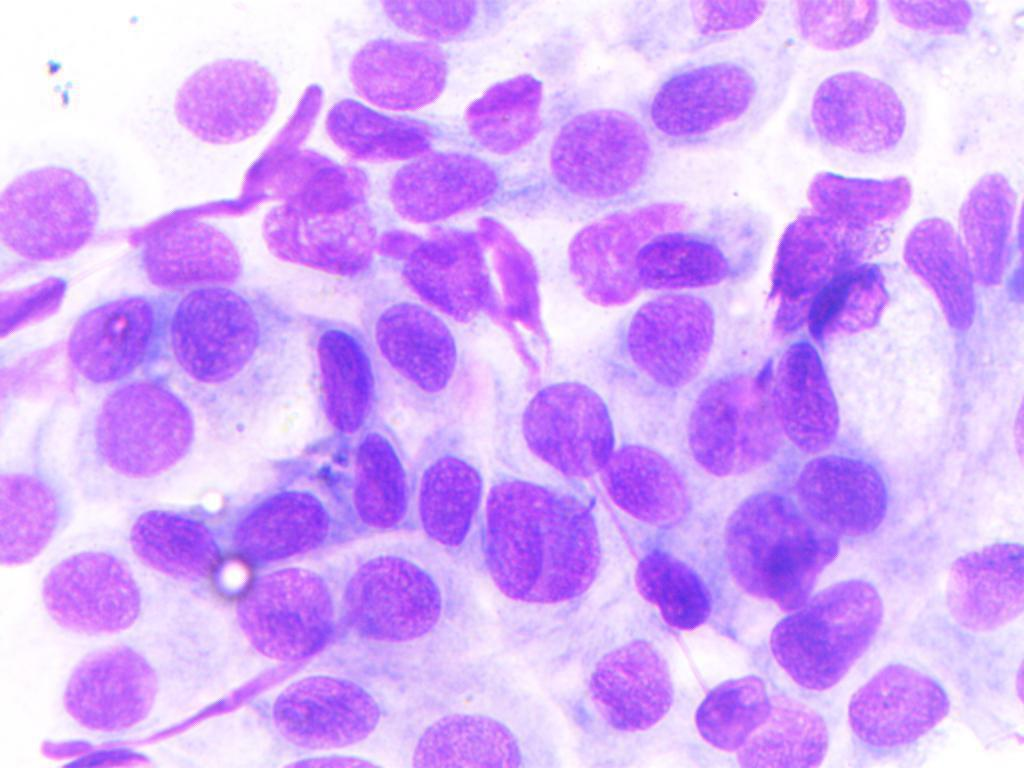artifact: (473, 213, 544, 343), (0, 269, 86, 334)
epithelial: (481, 477, 604, 629), (713, 488, 840, 607), (541, 205, 692, 305), (884, 201, 984, 351), (353, 141, 521, 230), (772, 579, 890, 705), (245, 178, 378, 286), (0, 161, 111, 286), (642, 54, 797, 143), (932, 496, 1023, 639), (169, 41, 287, 147), (331, 548, 450, 645), (542, 96, 647, 205), (766, 206, 863, 323), (616, 290, 733, 386), (805, 59, 915, 160), (517, 367, 616, 478), (12, 547, 146, 629), (846, 666, 969, 755), (229, 468, 337, 568), (576, 633, 685, 732), (944, 161, 1024, 295), (390, 698, 543, 768), (265, 672, 386, 759), (310, 81, 445, 157), (229, 565, 327, 669), (360, 295, 461, 394), (684, 374, 781, 476), (87, 380, 192, 474), (65, 283, 158, 386), (60, 643, 167, 732), (337, 33, 461, 109), (401, 231, 503, 322), (135, 215, 253, 293), (170, 293, 265, 389), (796, 451, 891, 544), (786, 161, 917, 228), (413, 440, 486, 560), (643, 210, 743, 297), (0, 454, 68, 581), (301, 326, 377, 432), (775, 338, 843, 454), (607, 440, 693, 526), (451, 74, 547, 151), (872, 0, 996, 54), (349, 432, 411, 533), (740, 698, 826, 768), (690, 668, 767, 746), (676, 0, 773, 57), (794, 0, 881, 49)
goblet_cell: (624, 544, 725, 631), (133, 503, 226, 588)
